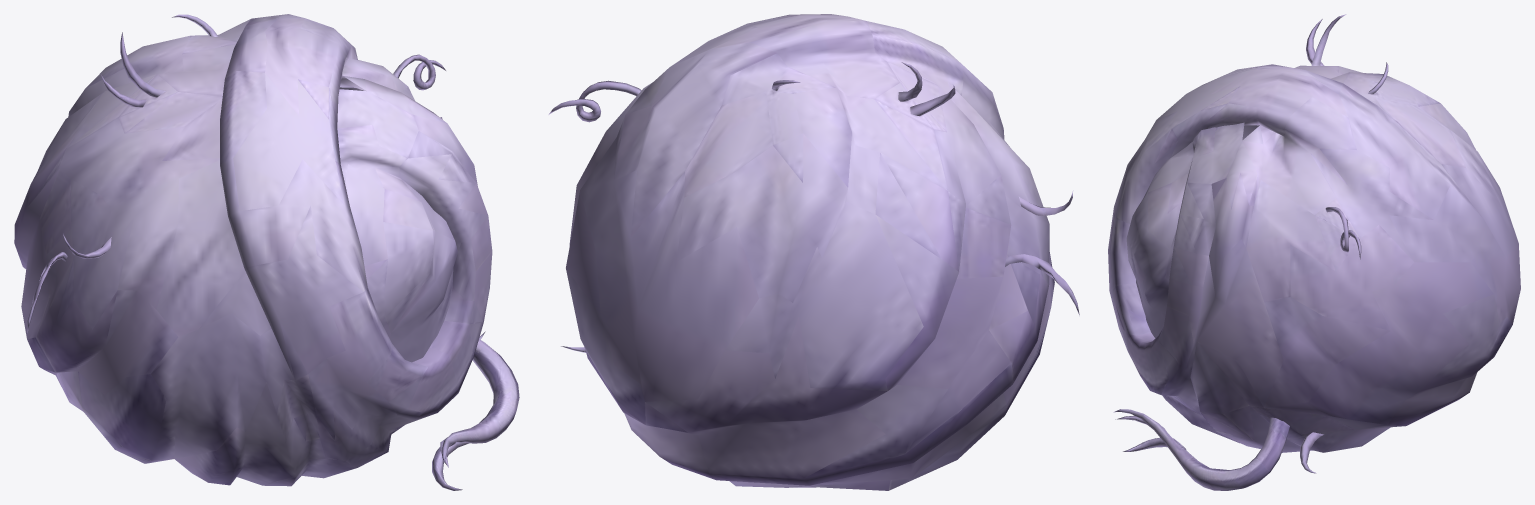
The model's file is item-fluff.glb.
3 views of the same model, side by side, from view 1: azimuth 30°, elevation 25°; view 2: azimuth 150°, elevation 25°; view 3: azimuth 270°, elevation 25° (orthographic). The views are drawn at different scales.
Bounding box in the file's own units: 0.9575 × 0.8311 × 0.8389.
1 material, 1 textured.
